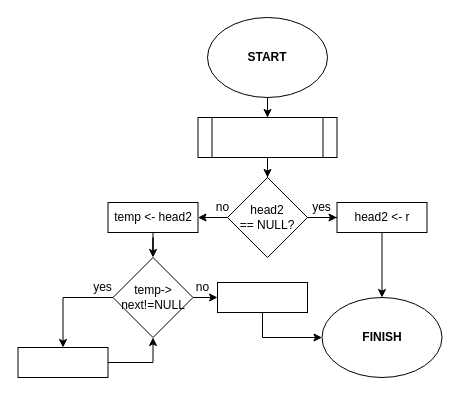
This 459x395 diagram has some shape labels left out. The shapes that lost their labels are listed below. From the top down, each one's centre as x and y in pixels, then its label:
At [267,137]: "r <- createNodePair(p,q)".
At [262,297]: "temp->next <- r".
At [62,362]: "temp <- temp->next".
